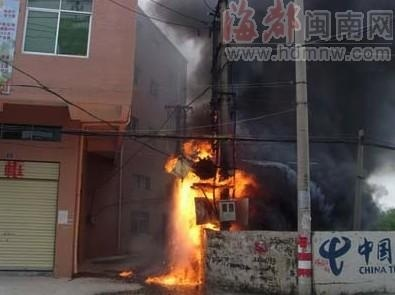fire: (157, 143, 254, 282), (118, 268, 132, 278)
